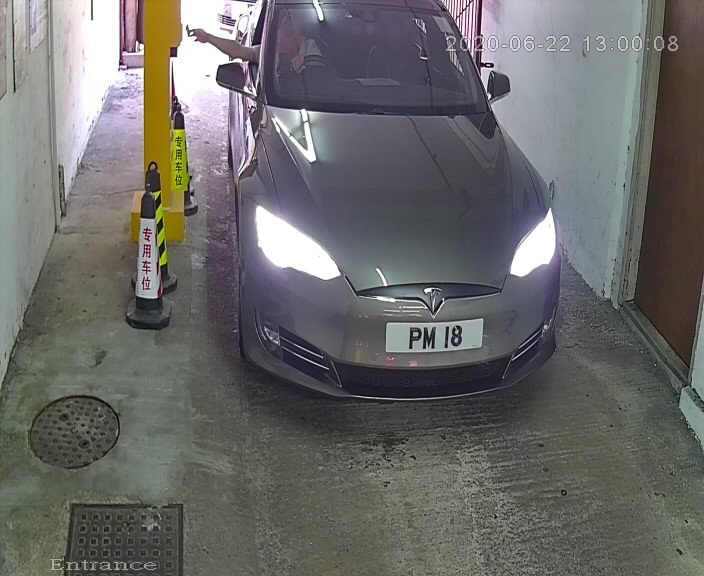privatecar: (210, 2, 584, 409)
